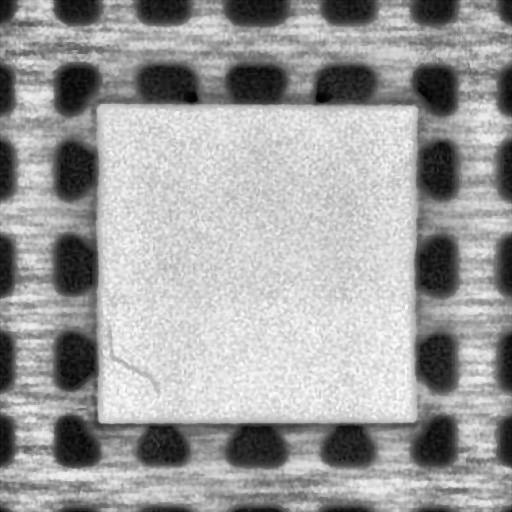DIE_CRACK: (106, 326, 162, 396)
